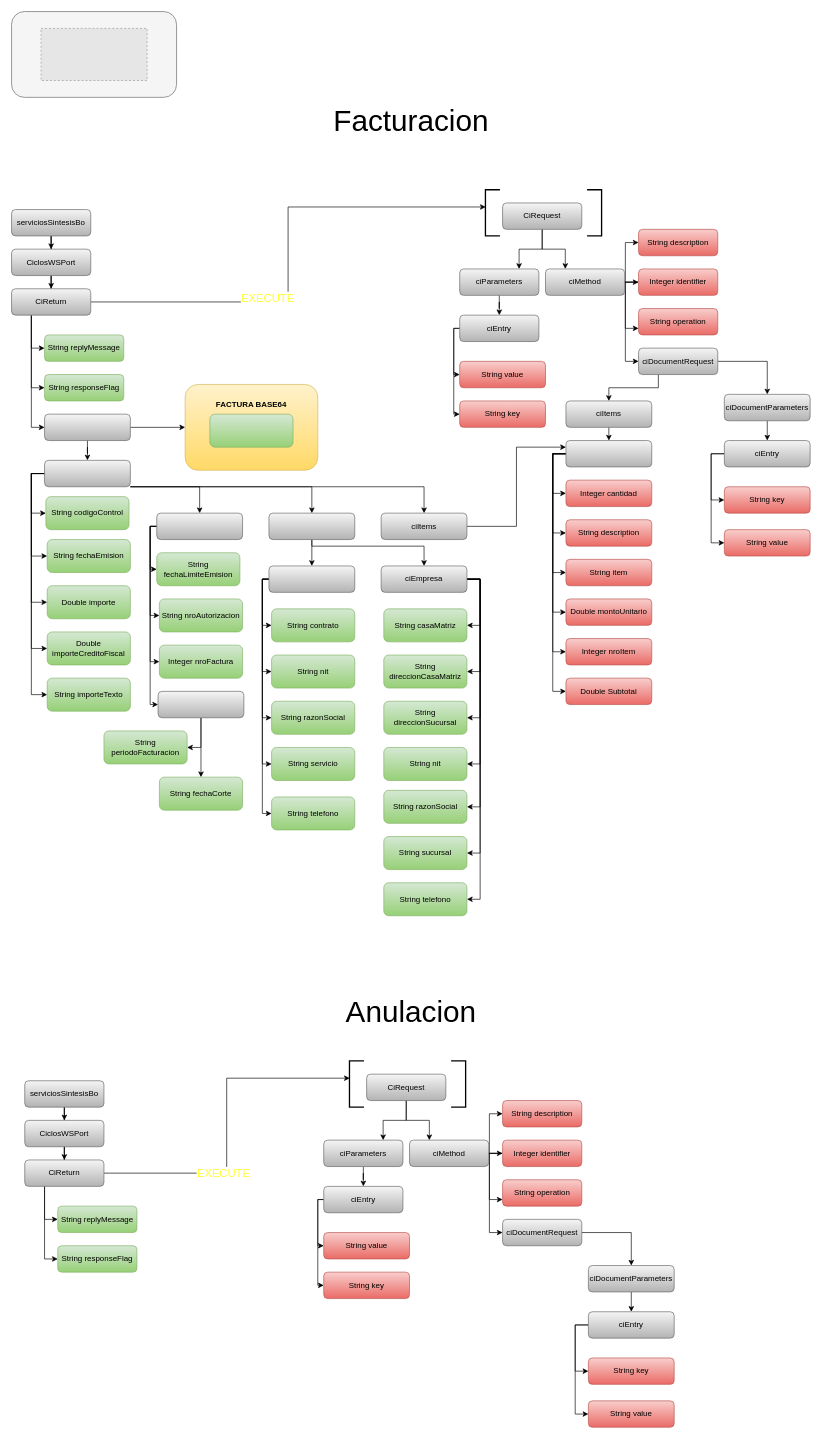
The diagram is 822 pixels wide and 1439 high, and some of its shapes have lost their labels. Grey dashed boxes stand in for pictures. Each missing label, with the centre of its shape:
ciCabecera: the point at 311,526
ciCliente: the point at 311,578
ciDatosDosificacion: the point at 199,526
ciFacturaResp: the point at 87,473
ciListItems: the point at 608,453
ciOutputData: the point at 87,427
ciServicio: the point at 200,704
String graphicRepresentation: the point at 251,430
